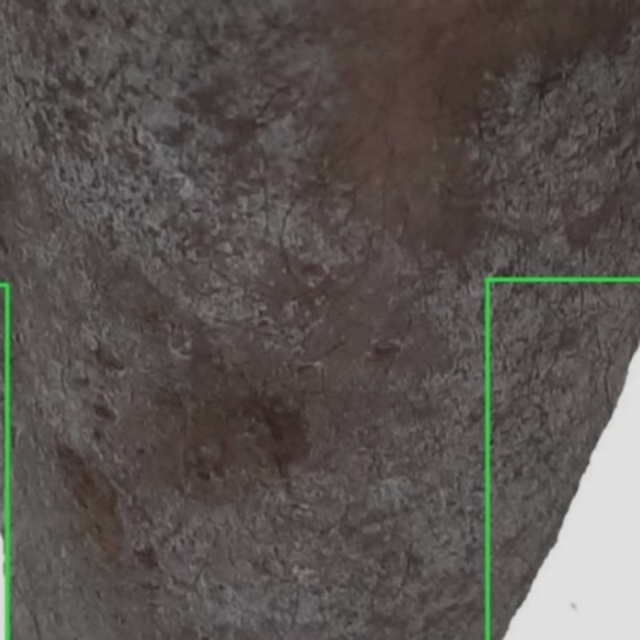Contact Dermatitis: (487, 279, 639, 639)
